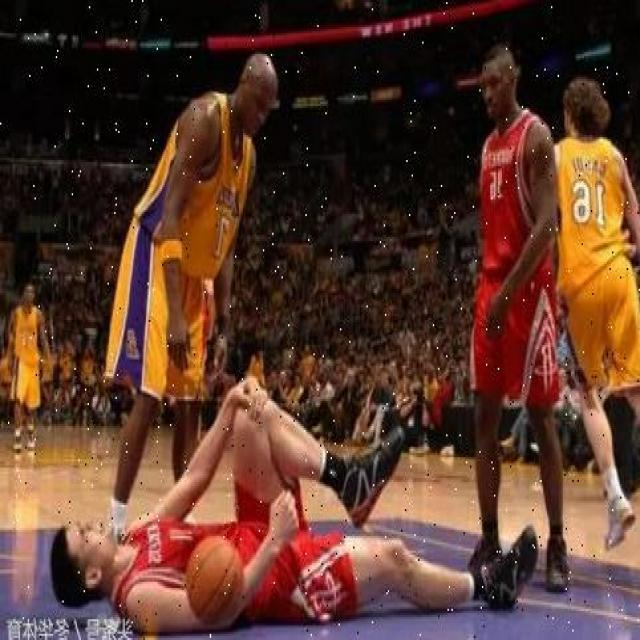fall: (50, 422, 492, 607)
